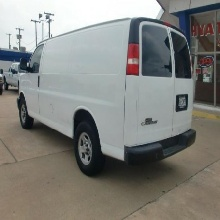no damage: (17, 17, 197, 176)
